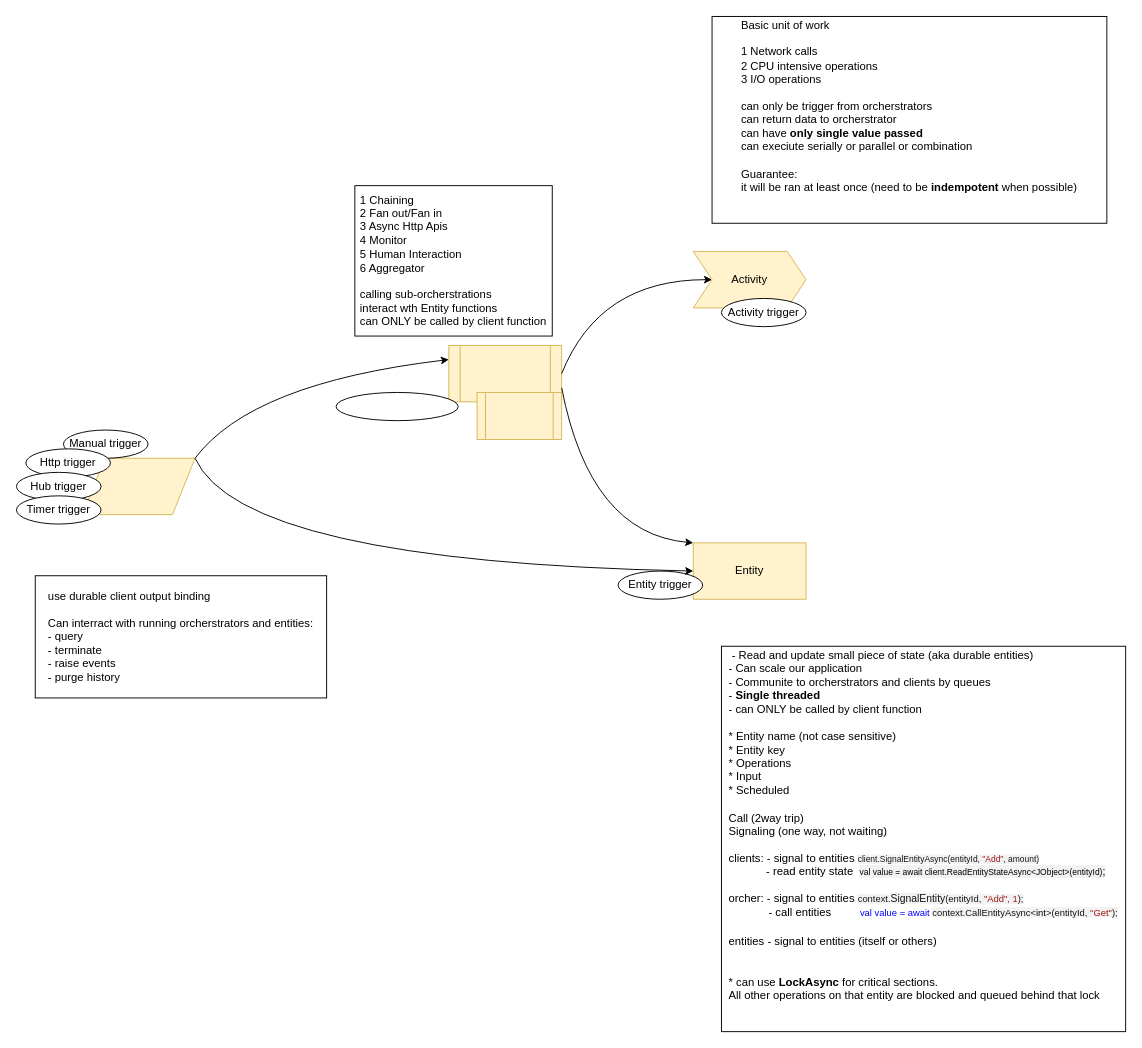
This 1142x1048 diagram has some shape labels left out. Each missing label, with the centre of its shape:
"Client" goes at point 138,486.
"Orcherstration trigger" goes at point 396,406.
"Orcherstrator" goes at point 505,373.
"Sub Orcherstrator" goes at point 519,415.
